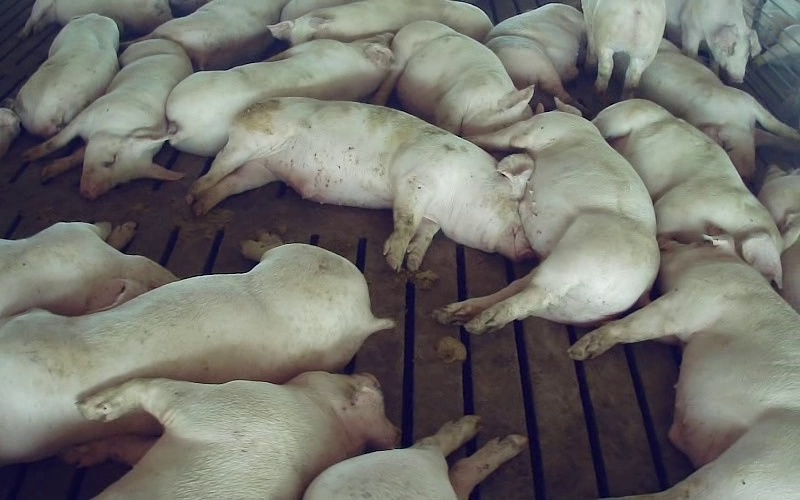pig: (0, 235, 393, 464), (569, 235, 799, 499), (187, 97, 532, 271), (436, 100, 658, 333), (66, 372, 397, 499), (593, 99, 781, 285), (166, 33, 392, 155), (23, 39, 192, 199), (638, 39, 799, 178), (303, 416, 526, 499), (373, 21, 533, 135), (0, 222, 175, 319), (486, 3, 585, 103), (269, 0, 492, 44), (582, 0, 665, 98), (666, 0, 760, 82), (20, 0, 171, 36)
